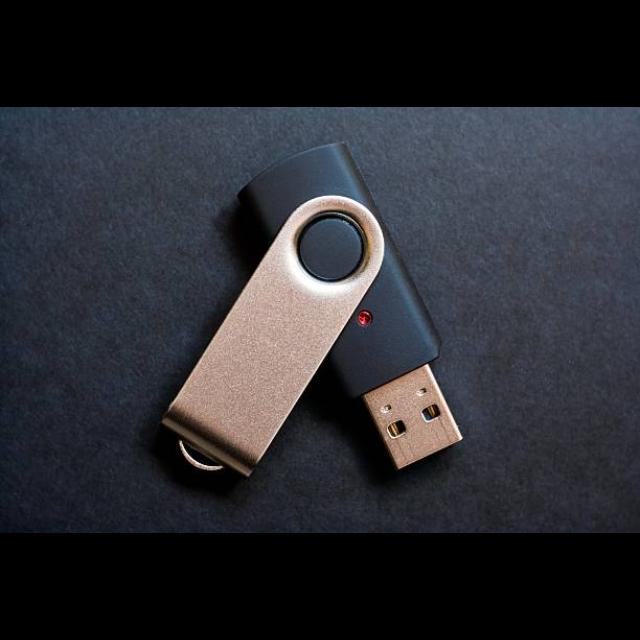USB-Flash-Drive: (161, 143, 462, 479)
